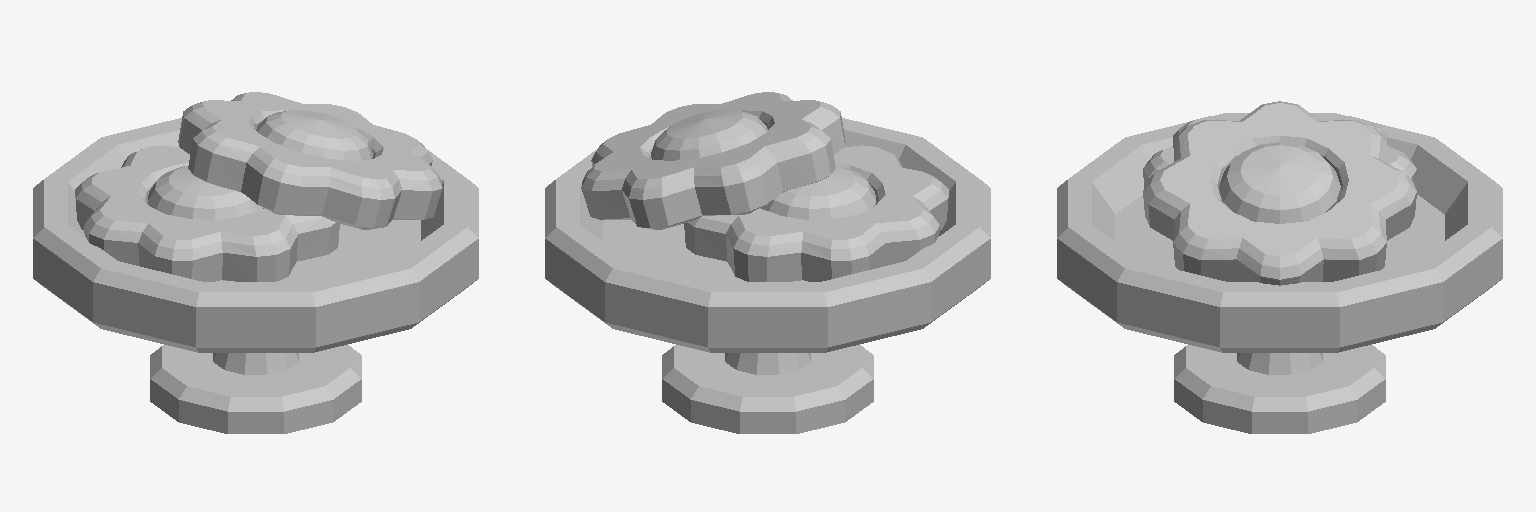
The model's file is pastry_stand_A_decorated.obj.
3 views of the same model, side by side, from view 1: azimuth 30°, elevation 25°; view 2: azimuth 150°, elevation 25°; view 3: azimuth 270°, elevation 25° (orthographic).
Visible parts, largest first — view 1: pastry_stand_A_decorated; view 2: pastry_stand_A_decorated; view 3: pastry_stand_A_decorated.
Part boxes in pixels (bbox=[...]): pastry_stand_A_decorated: bbox=[33, 92, 478, 433]; pastry_stand_A_decorated: bbox=[545, 92, 990, 433]; pastry_stand_A_decorated: bbox=[1057, 101, 1502, 433].
Size of the model in its own units: 0.8 by 0.5299 by 0.8.